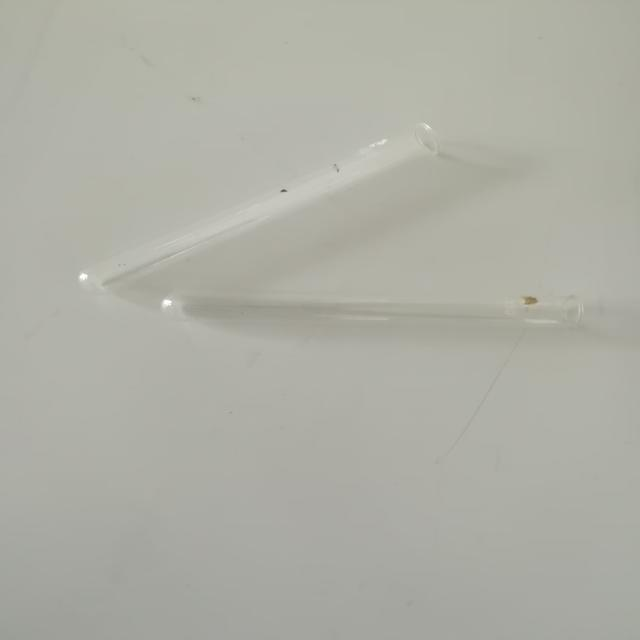Test_Tube: (58, 105, 470, 298), (151, 268, 596, 346)
